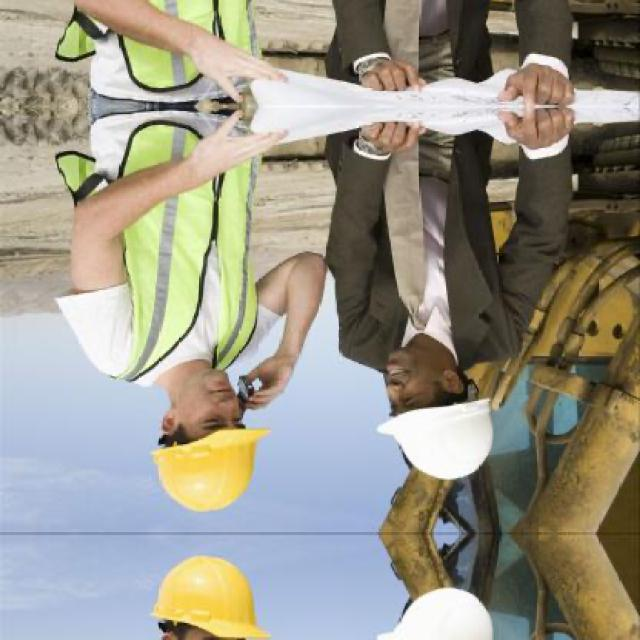con casco: (369, 385, 545, 497), (136, 401, 280, 518)
